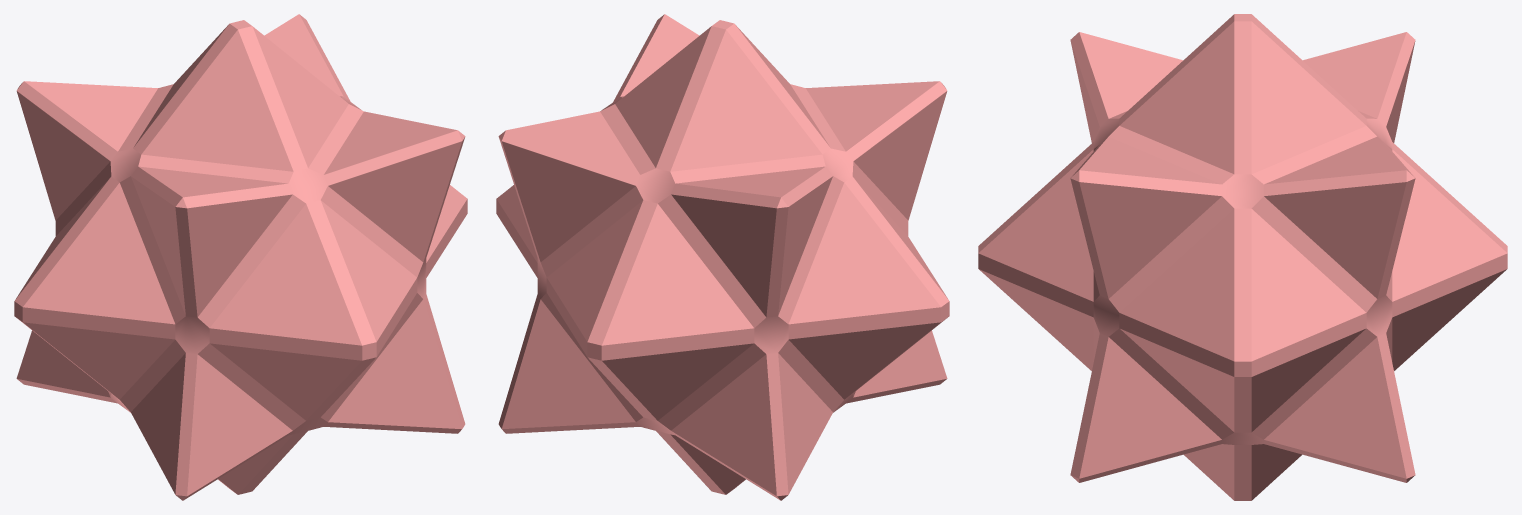
Rendered from disappering flat star emerge star object.fbx.
The picture shows the model from 3 angles, left to right: view 1: azimuth 30°, elevation 25°; view 2: azimuth 150°, elevation 25°; view 3: azimuth 270°, elevation 25°; orthographic projection. The views are drawn at different scales.
Parts seen in each view (by area): view 1: Cube_002; view 2: Cube_002; view 3: Cube_002.
Part boxes in pixels (x1,y1,x2,y2): Cube_002: [14, 14, 467, 500]; Cube_002: [496, 14, 949, 500]; Cube_002: [978, 14, 1507, 500].
Size of the model in its own units: 141 by 141 by 141.
